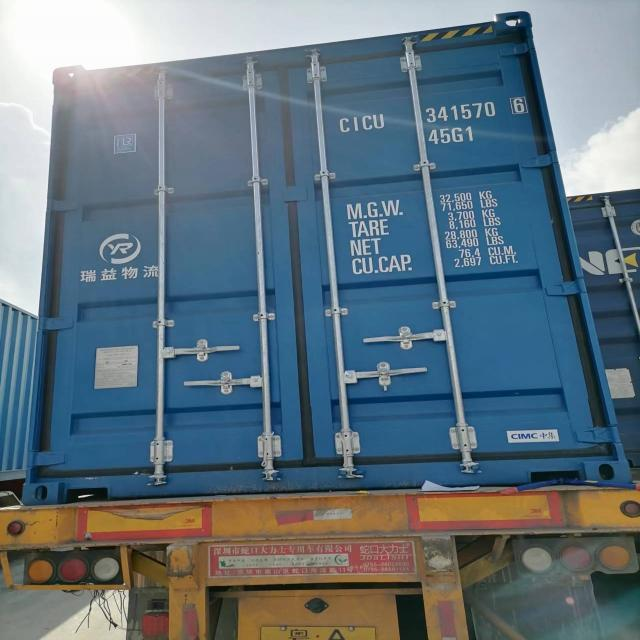ISO: (428, 124, 474, 144)
container_number: (336, 94, 528, 124)
